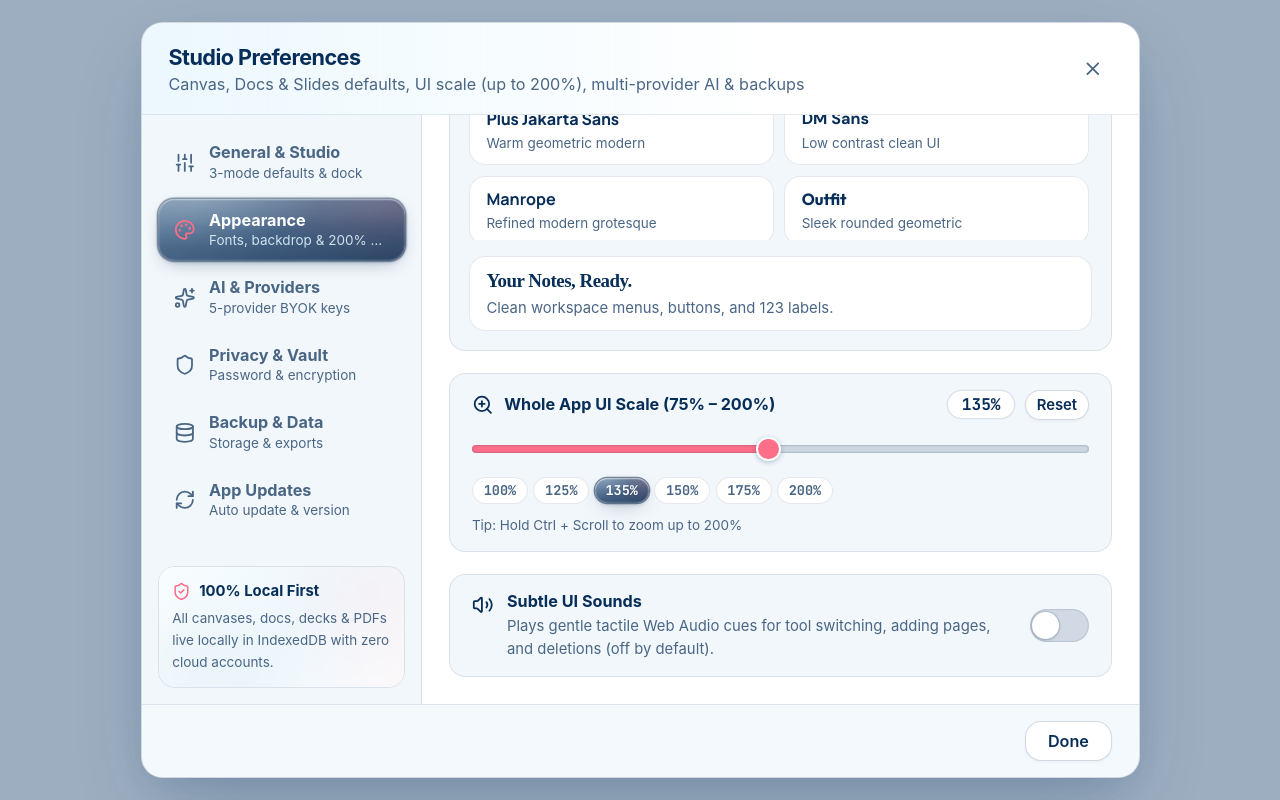
it: DraggableRangeSlider & Whole-App UI Scale dragging › lets Whole-App UI Scale drag smoothly via live preview without mid-drag zoom resizing, committing on release
The image size is (1280, 800).
(page scrolled)
Press the mouse on the slider with test id "settings-ui-scale-slider" at (780, 449), box 472,433 -> 1089,465
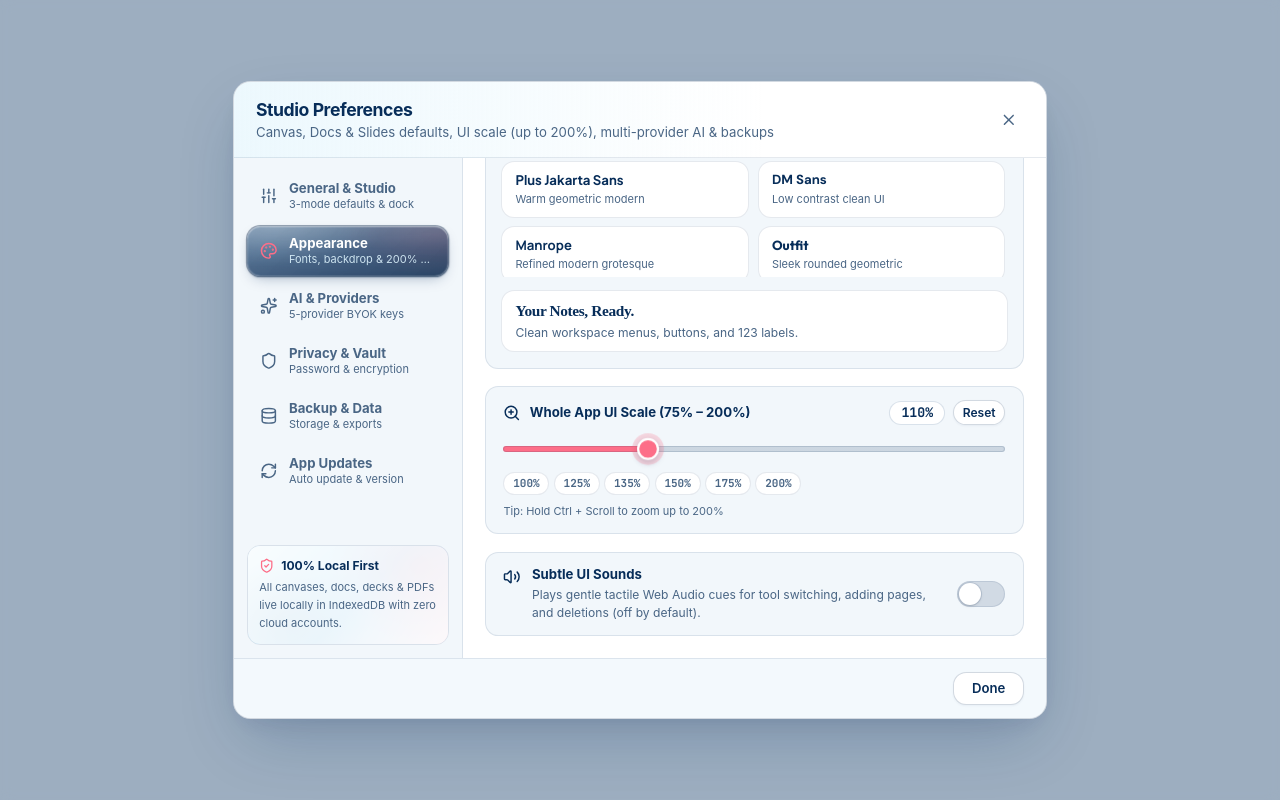
Now the slider with test id "settings-ui-scale-slider" holds "110", box 503,436 -> 1005,462
Now the text with test id "settings-ui-scale-value" reads "110%", box 890,402 -> 944,424
